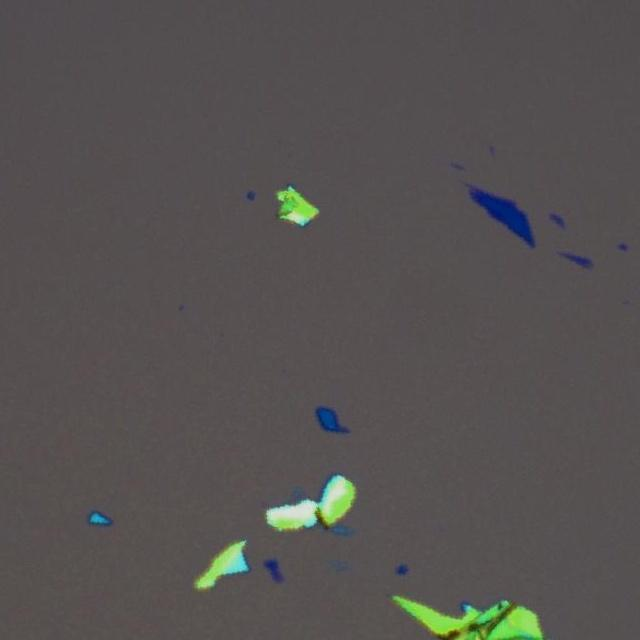monolayer-eWW4: (274, 576, 284, 584)
